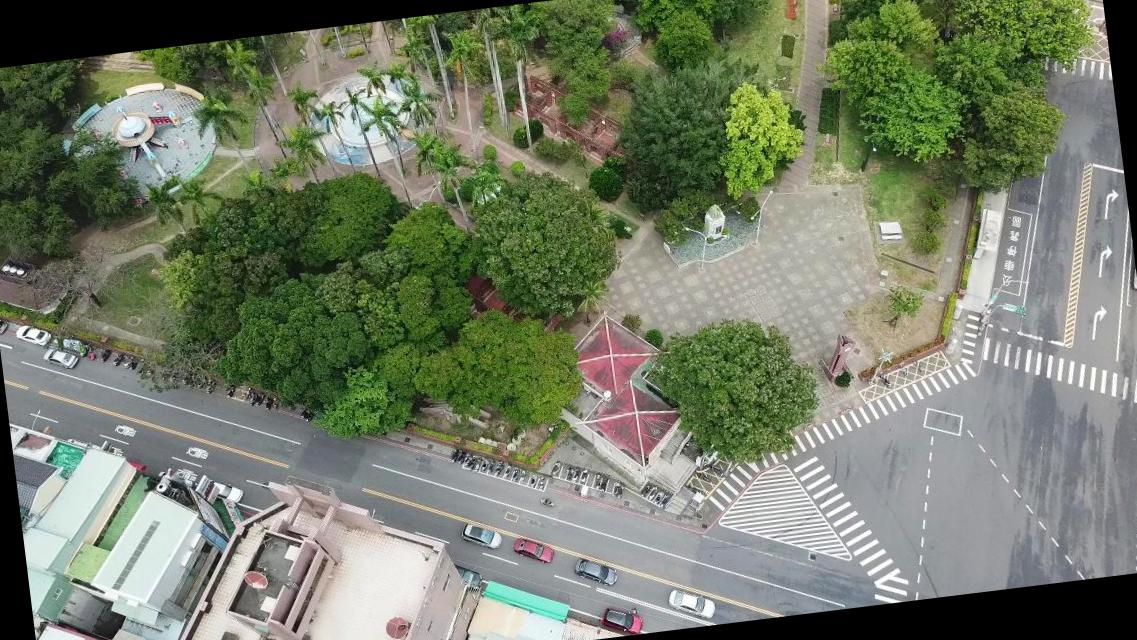vehicle: (666, 584, 717, 624), (571, 553, 619, 590), (598, 602, 644, 638), (512, 532, 556, 568), (458, 519, 503, 554), (209, 477, 245, 506), (40, 346, 80, 372), (14, 322, 52, 348), (0, 315, 9, 334)
